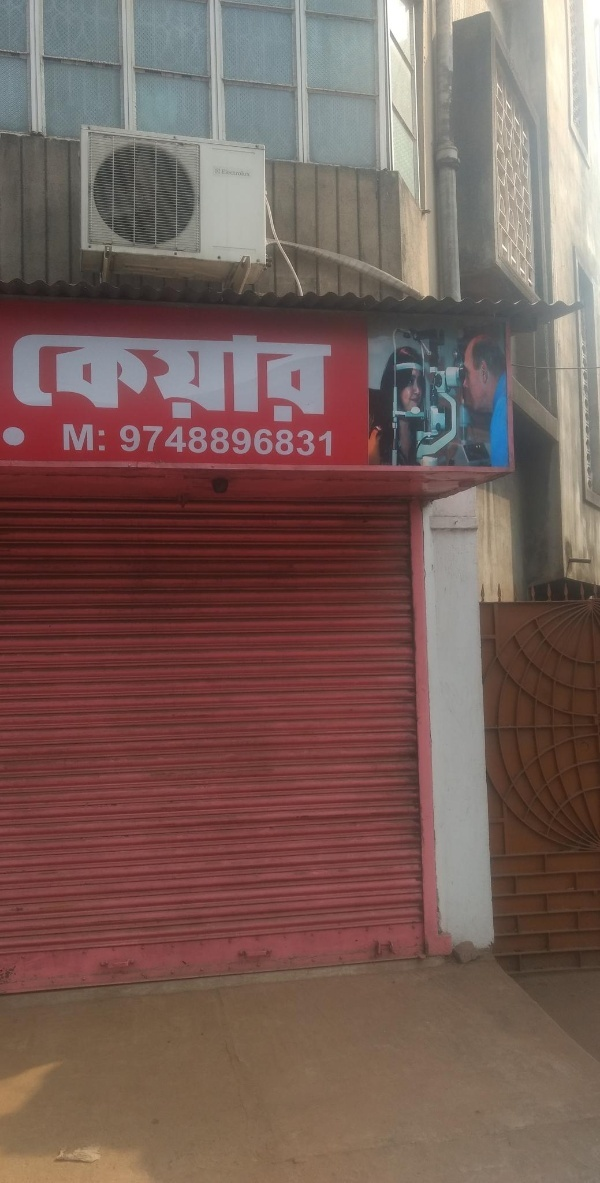text: (17, 332, 32, 422), (33, 332, 48, 422), (49, 332, 64, 422), (65, 332, 80, 422), (81, 332, 96, 422), (97, 332, 112, 422), (113, 332, 128, 422), (129, 332, 144, 422), (145, 332, 160, 422), (161, 332, 176, 422), (177, 332, 192, 422), (193, 332, 208, 422), (209, 332, 224, 422), (225, 332, 240, 422), (241, 332, 256, 422), (257, 332, 272, 422), (273, 332, 288, 422), (289, 332, 304, 422), (305, 332, 320, 422), (321, 332, 334, 422), (321, 424, 337, 459), (129, 424, 144, 459), (145, 424, 160, 459), (161, 424, 176, 459), (177, 424, 192, 459), (193, 424, 208, 459), (209, 424, 224, 459), (225, 424, 240, 459), (241, 424, 256, 459), (257, 424, 272, 459), (273, 424, 288, 459), (289, 424, 304, 459), (305, 424, 320, 459), (65, 423, 80, 457), (81, 423, 96, 457), (97, 423, 108, 457), (13, 332, 16, 422), (122, 424, 128, 459), (62, 423, 64, 457)
